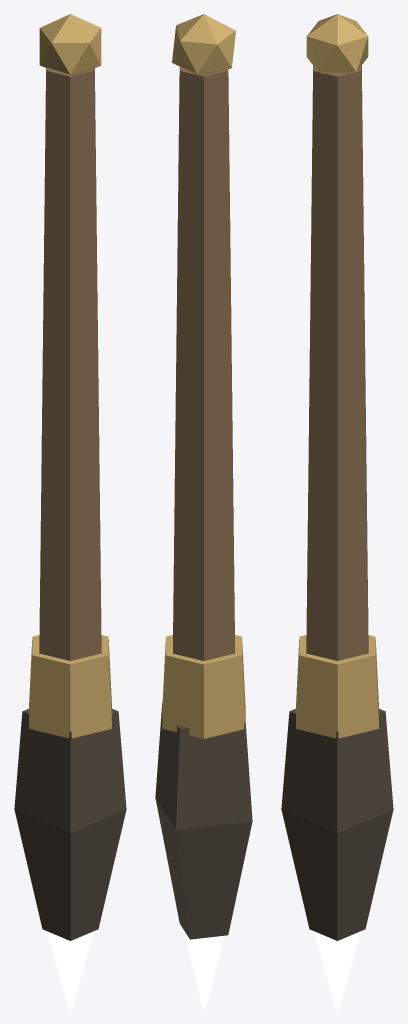
The model's file is brush.glb.
The picture shows the model from 3 angles, left to right: view 1: azimuth 90°, elevation 25°; view 2: azimuth 150°, elevation 25°; view 3: azimuth 270°, elevation 25°; orthographic projection.
Parts seen in each view (by area): view 1: brush; view 2: brush; view 3: brush.
Part boxes in pixels (<box>): brush: <box>14,14,126,1009</box>; brush: <box>155,14,252,1009</box>; brush: <box>281,14,393,1009</box>.
Bounding box in the file's own units: 0.028 × 0.274 × 0.028.
